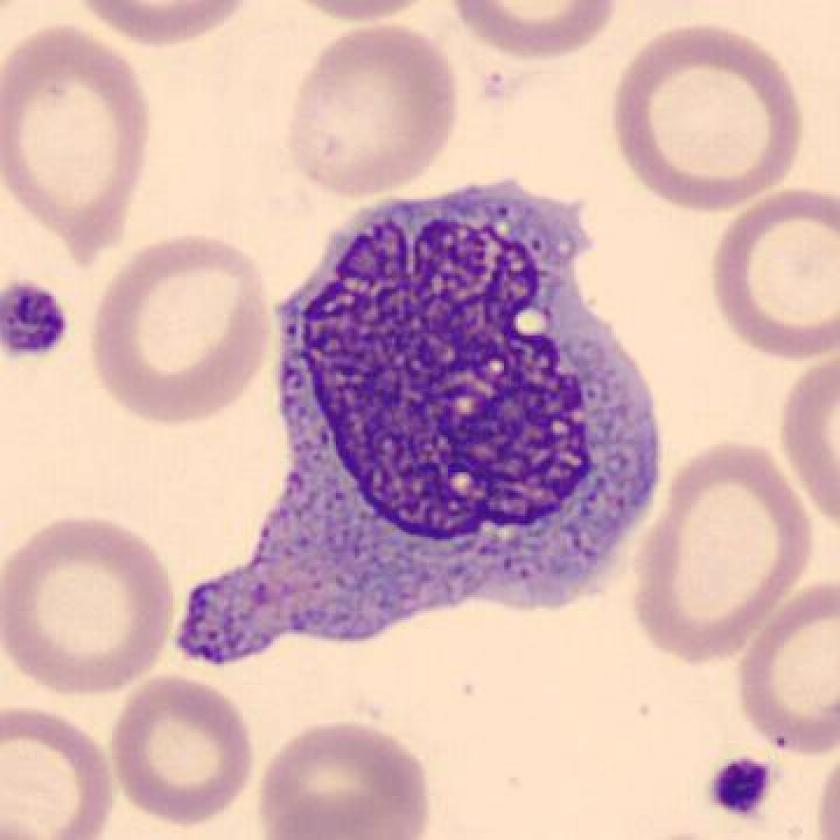monocyte: (160, 163, 680, 704)
